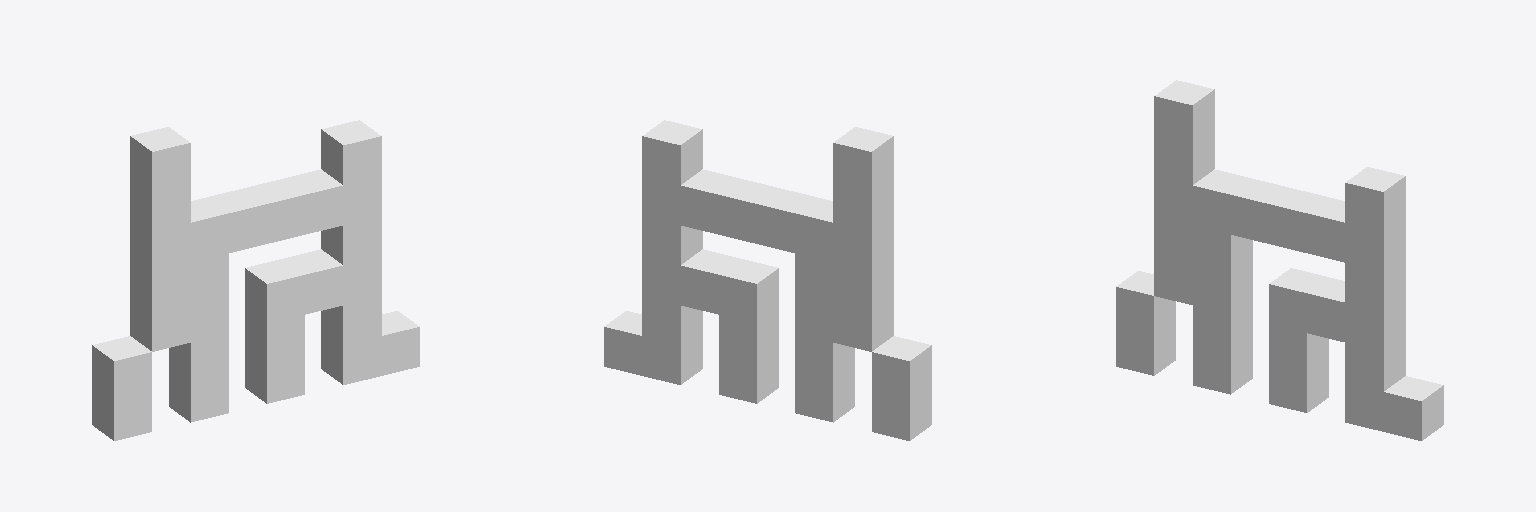
The model's file is USMortar.obj.
The picture shows the model from 3 angles: view 1: azimuth 30°, elevation 25°; view 2: azimuth 150°, elevation 25°; view 3: azimuth 330°, elevation 25°; orthographic projection.
Bounding box in the file's own units: 8 × 7 × 1.